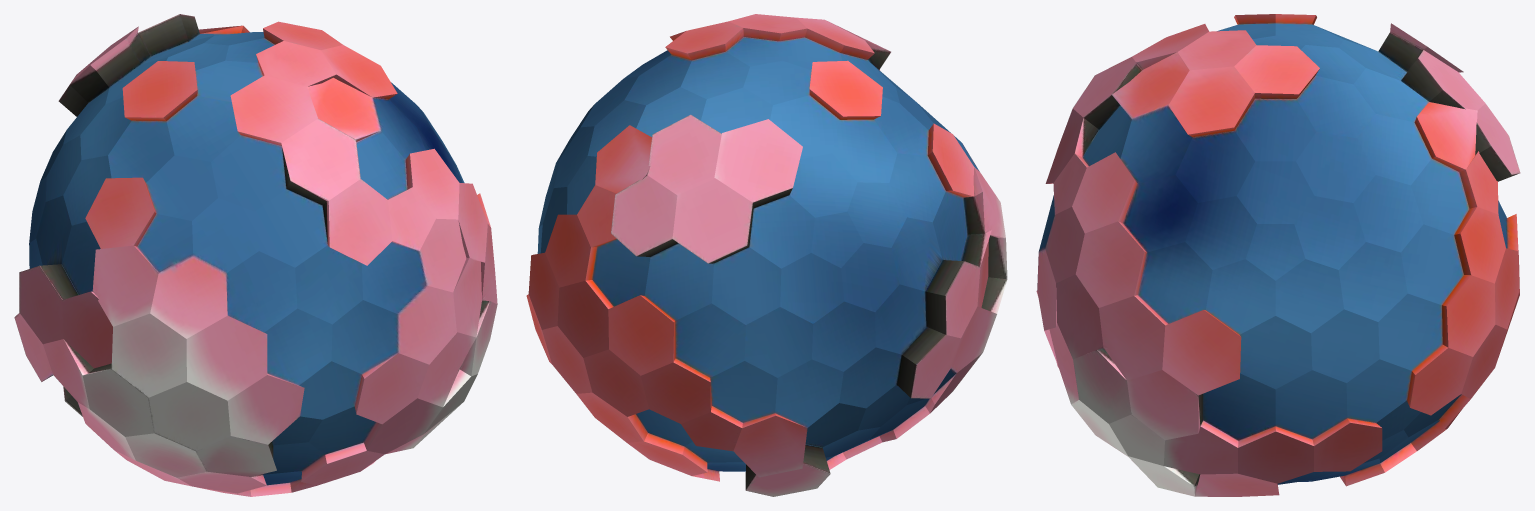
The model's file is planet.glb.
3 views of the same model, side by side, from view 1: azimuth 30°, elevation 25°; view 2: azimuth 150°, elevation 25°; view 3: azimuth 270°, elevation 25° (orthographic). The views are drawn at different scales.
Visible parts, largest first — view 1: planet; view 2: planet; view 3: planet.
Part boxes in pixels (x1=…): planet: x1=14, y1=14, x2=497, y2=496; planet: x1=526, y1=14, x2=1007, y2=496; planet: x1=1036, y1=14, x2=1520, y2=496.
Bounding box in the file's own units: 6.35 × 6.31 × 6.23.
Materials: 1 (1 with a texture image).
